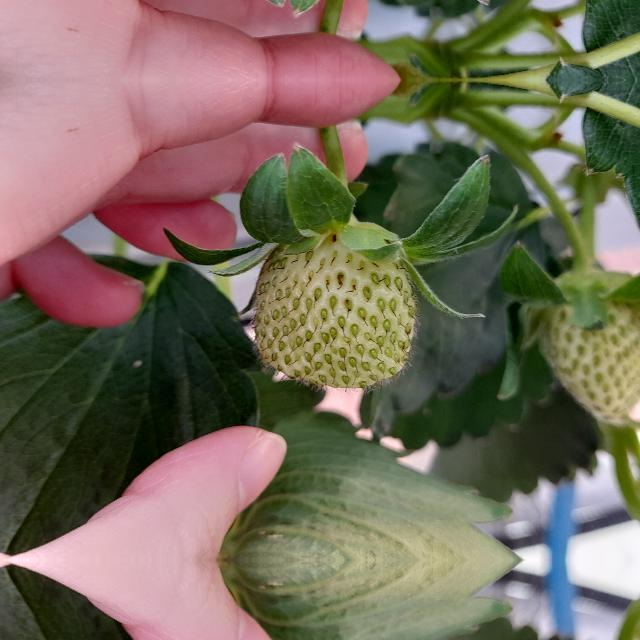Health_25: (251, 220, 417, 388)
